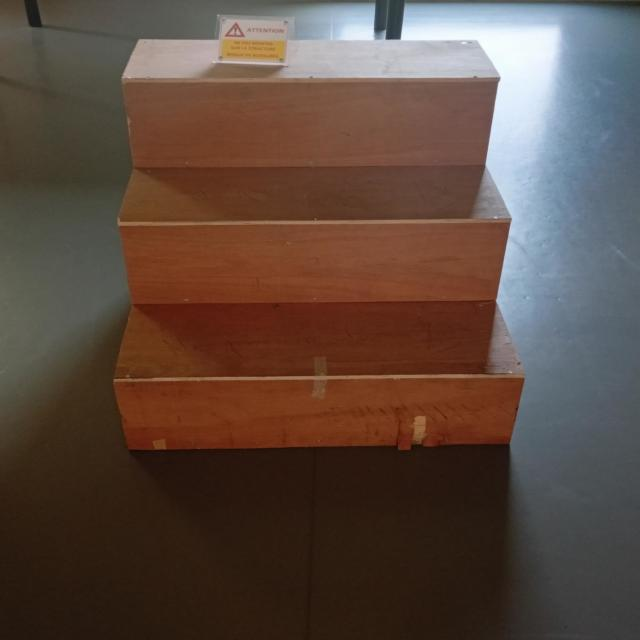Stairs: (60, 68, 590, 476)
